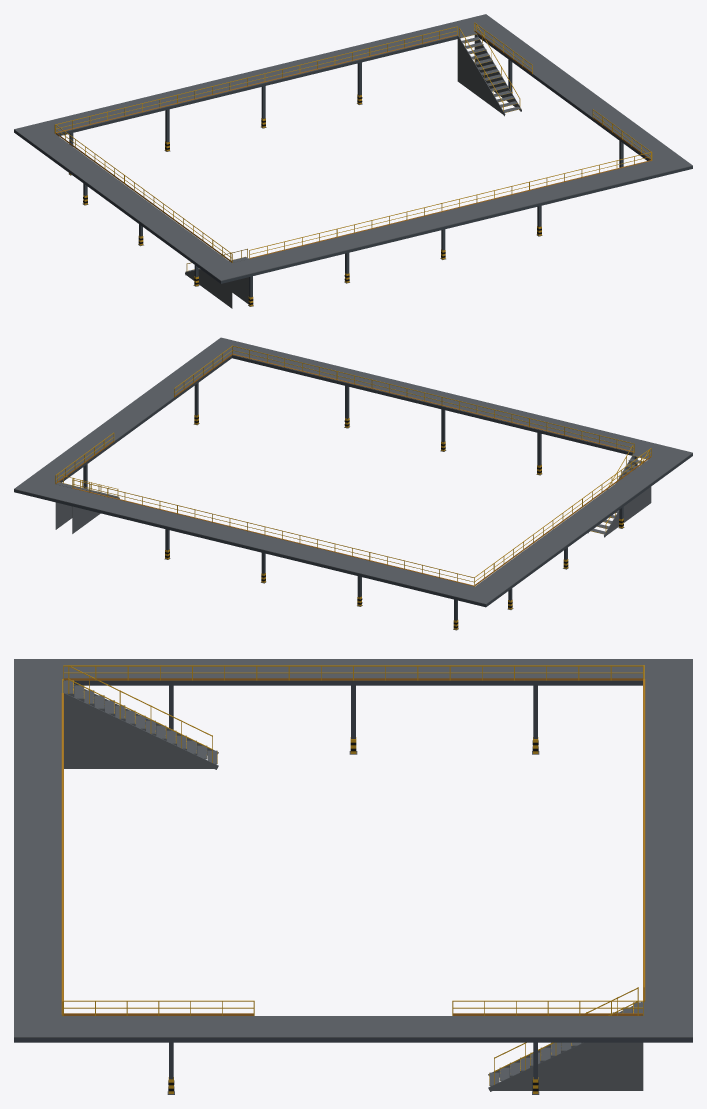
The model's file is dp-catwalk.glb.
3 renders of one model, top to bottom at view 1: azimuth 30°, elevation 25°; view 2: azimuth 150°, elevation 25°; view 3: azimuth 270°, elevation 25°, orthographic. The views are drawn at different scales.
Visible parts, largest first — view 1: dp-catwalk; view 2: dp-catwalk; view 3: dp-catwalk.
Boxes of the visible parts, box(x1,y1,x2,y2) form: dp-catwalk: box(14, 14, 692, 308); dp-catwalk: box(14, 337, 692, 630); dp-catwalk: box(14, 659, 692, 1094).
Bounding box in the file's own units: 54 × 6.08 × 41.
